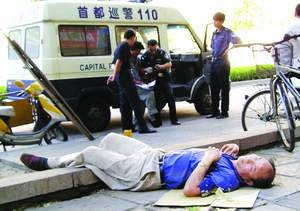falling: (18, 123, 279, 199)
